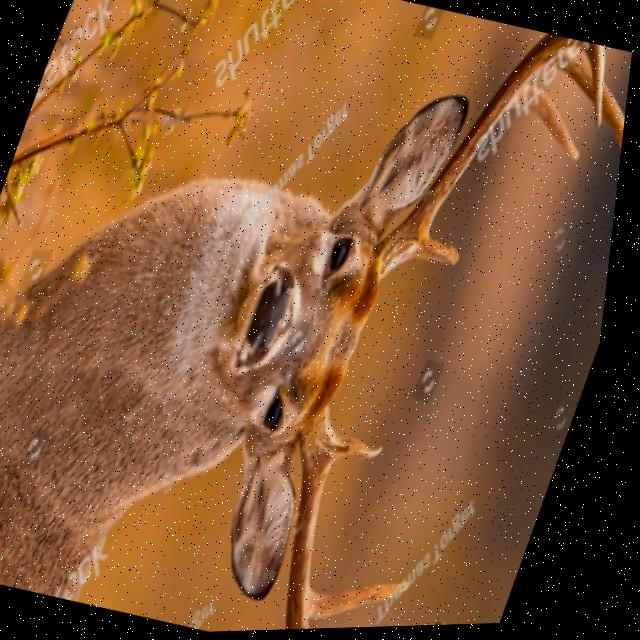L-F: (381, 36, 607, 287)
L-G1: (419, 234, 466, 270)
L-G2: (511, 86, 584, 165)
R-F: (300, 404, 344, 632)
R-G1: (342, 434, 395, 464)
R-G2: (322, 582, 425, 622)
